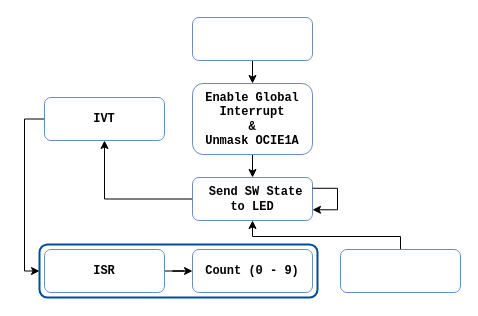
Some shapes in this 478 by 316 pixel diagram are drawn without their labels. Here are the shapes that lost their labels. From the top down, the box of each, then its label:
(192, 16, 312, 60): Set Up I/O Registers
(340, 248, 460, 292): RETI
